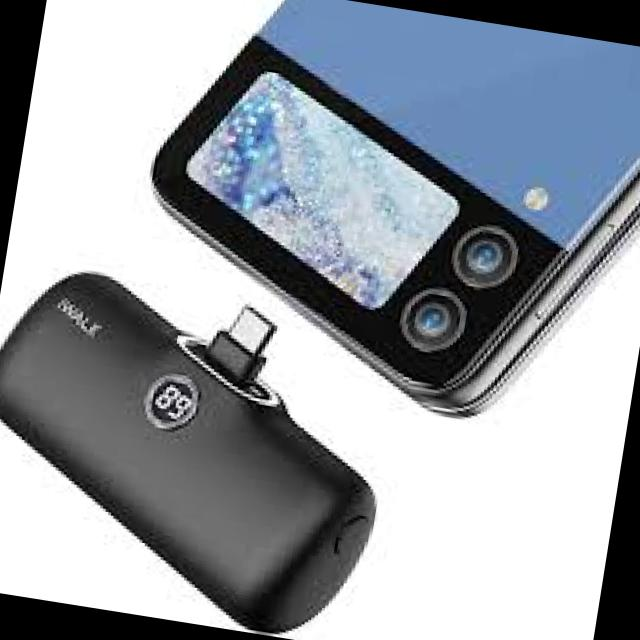power_bank: (0, 255, 407, 640)
